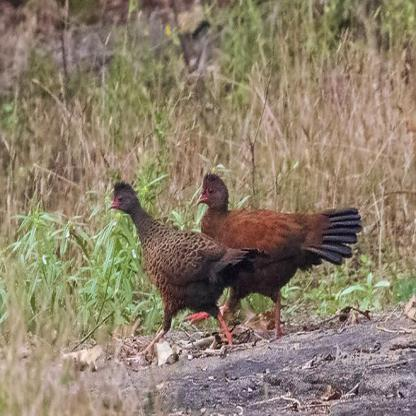Burung: (197, 173, 361, 332)
